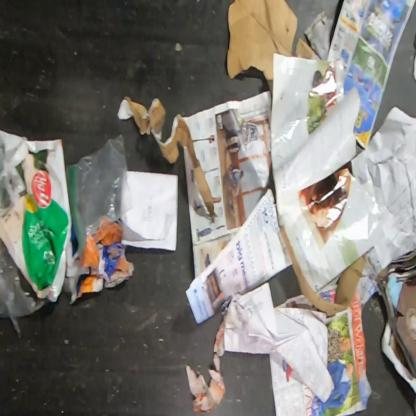cardboard: (116, 94, 216, 219), (226, 0, 323, 99), (279, 224, 370, 318)
soft_plastic: (0, 128, 72, 303), (67, 133, 134, 254), (0, 236, 47, 334)
